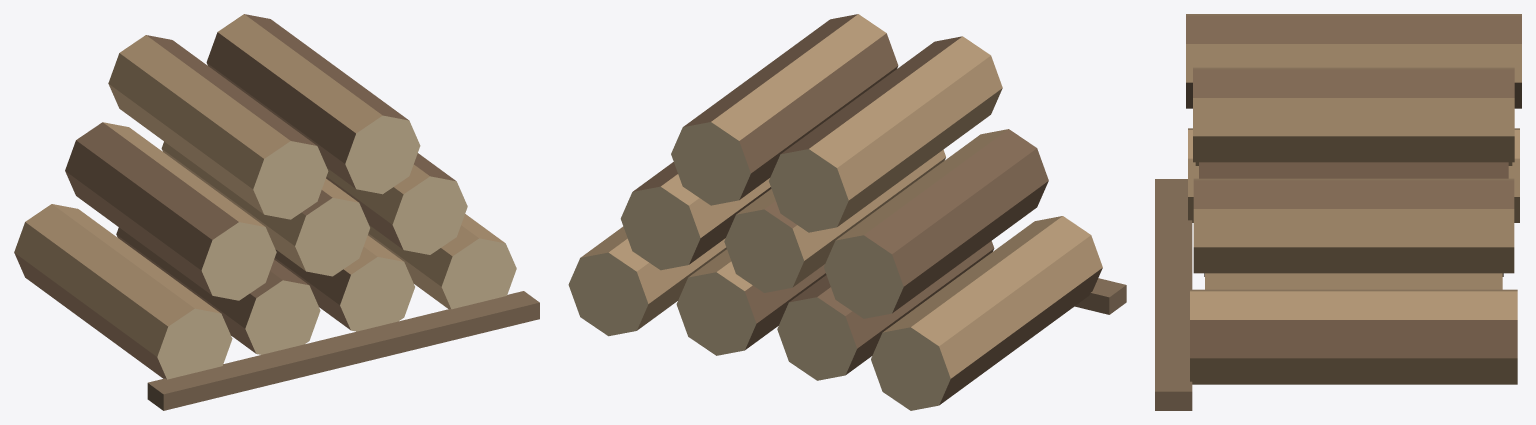
The model's file is firewood_stack.glb.
3 views of the same model, side by side, from view 1: azimuth 30°, elevation 25°; view 2: azimuth 150°, elevation 25°; view 3: azimuth 270°, elevation 25° (orthographic). The views are drawn at different scales.
Visible parts, largest first — view 1: firewood_stack; view 2: firewood_stack; view 3: firewood_stack.
Part boxes in pixels (x1=…): firewood_stack: x1=14, y1=14, x2=539, y2=410; firewood_stack: x1=568, y1=14, x2=1126, y2=410; firewood_stack: x1=1155, y1=14, x2=1521, y2=410.
Bounding box in the file's own units: 0.95 × 0.545 × 0.6917.
